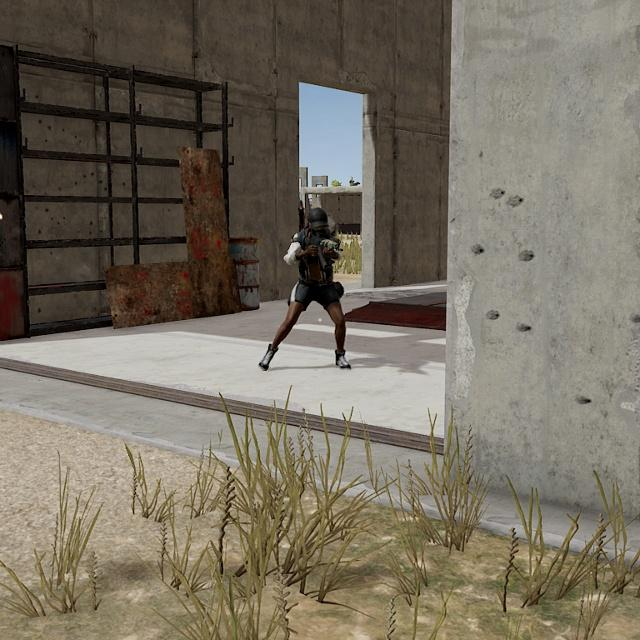head: (305, 205, 332, 237)
people: (259, 202, 357, 374)
